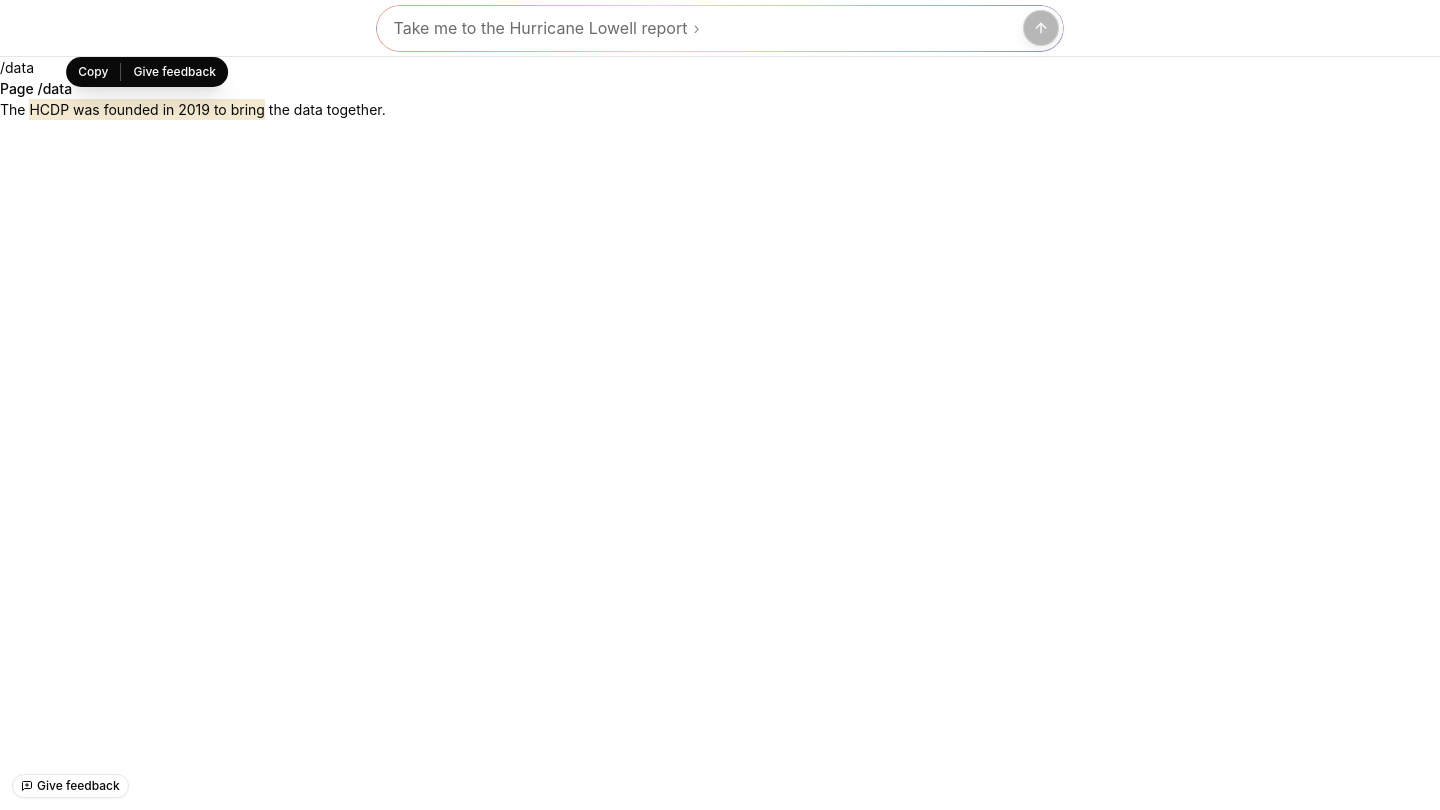
Test case: the selection pill › stays away from text inside the feedback panel and from an empty selection
The width and height of the screenshot is (1440, 810).
Click the button with test id "selection-feedback" at {"x": 175, "y": 72}, box [121,57,228,87]
Wait 265 ms
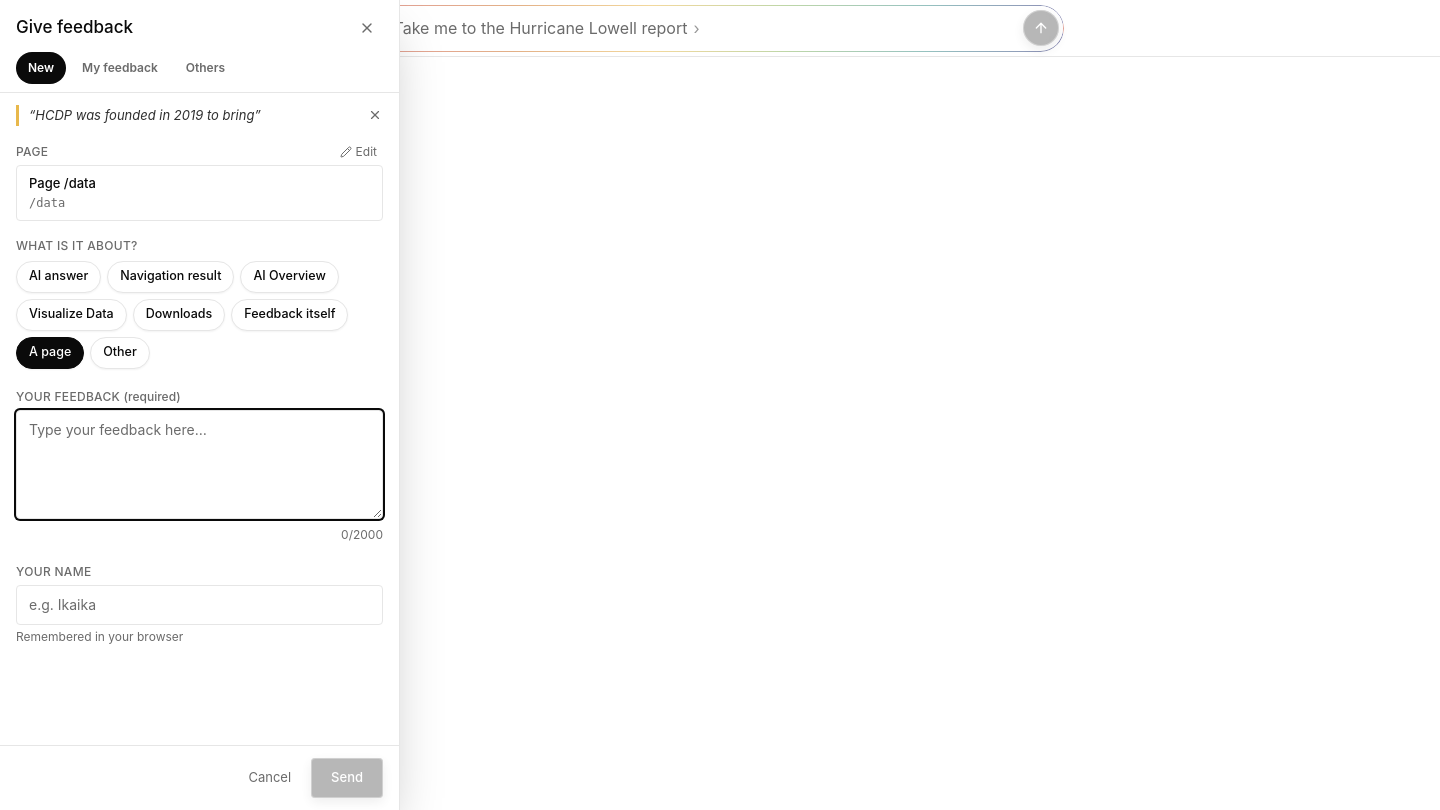
Now the element with test id "selection-pill" is gone
